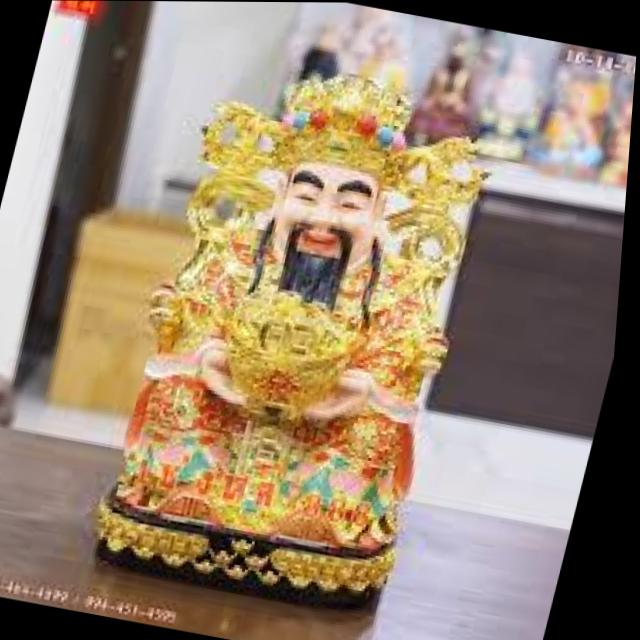Cai shen: (107, 52, 513, 548)
